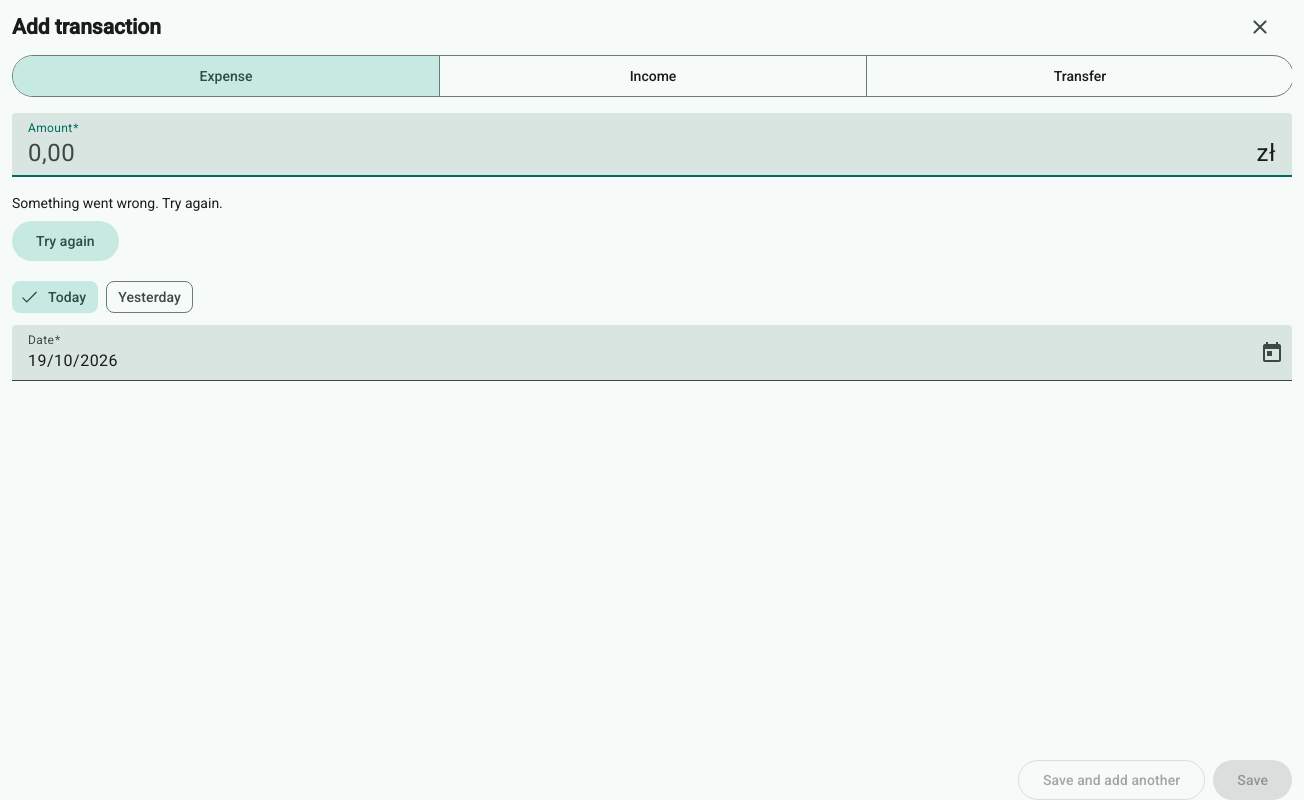
QuickAddDialogComponent › quick add › offers to try again when the accounts or categories cannot be loaded
This screenshot has width=1304, height=800.
Click the button "Try again" at (65, 241), box [12,221,119,261]
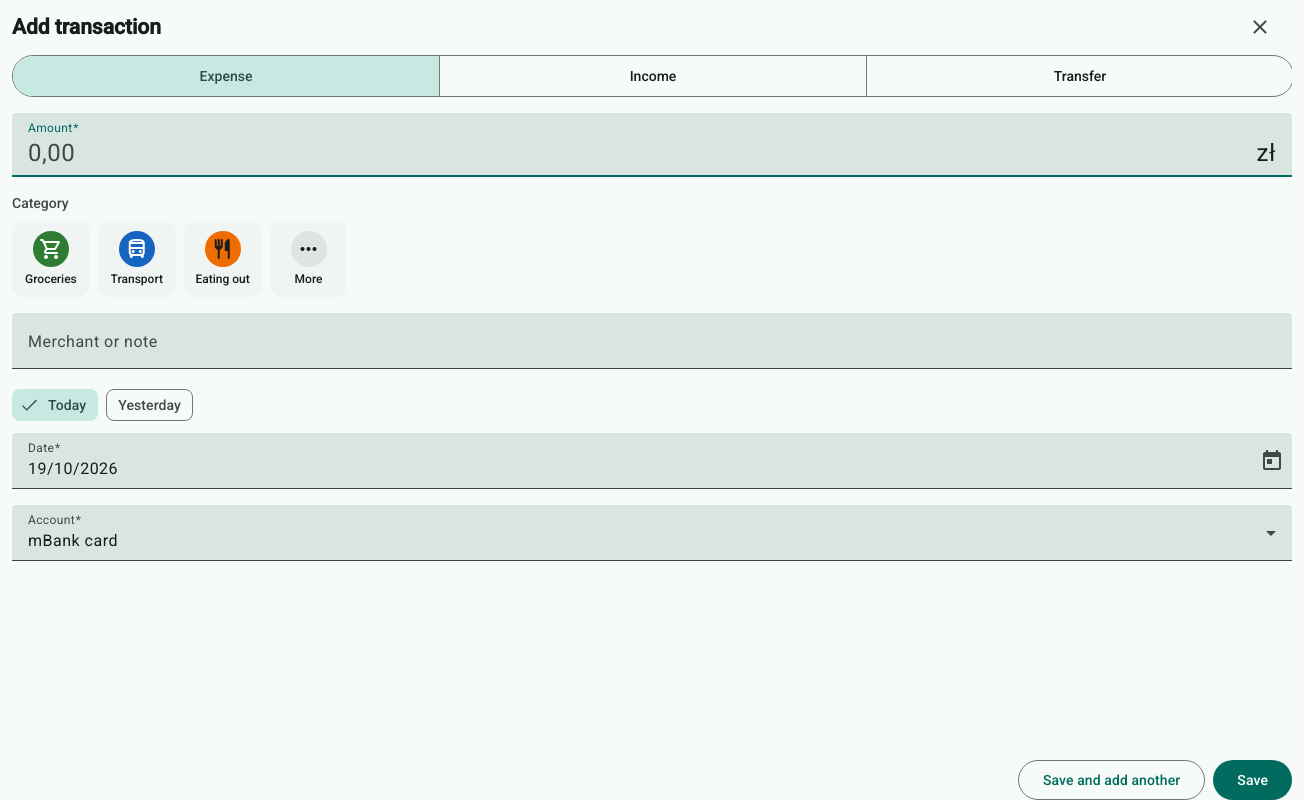
Check: the message with class "load-error" is gone
